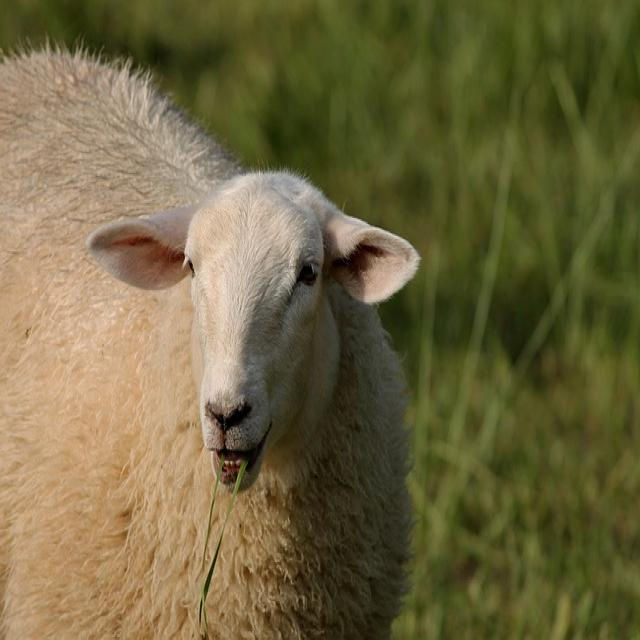goat: (0, 42, 421, 640)
